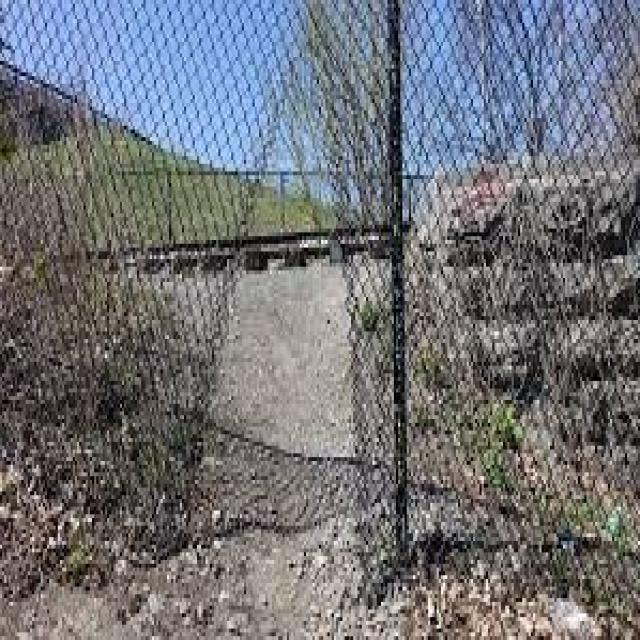fence line: (184, 75, 370, 570)
